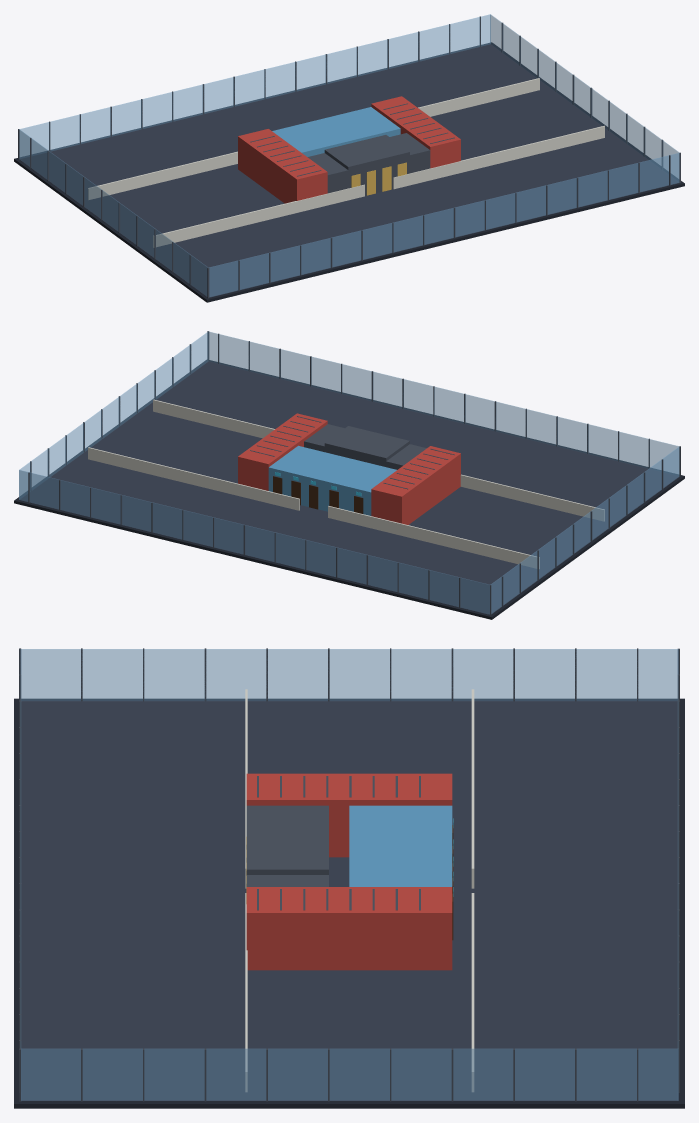
3 views of the same model, one above another, from view 1: azimuth 30°, elevation 25°; view 2: azimuth 150°, elevation 25°; view 3: azimuth 270°, elevation 25° (orthographic). The views are drawn at different scales.
Parts seen in each view (by area): view 1: L12_floor_carpet, L12_glass, L12_wall, L12_core, L12_stair, L12_slab, L12_wash, L12_lift; view 2: L12_floor_carpet, L12_glass, L12_wall, L12_stair, L12_core, L12_slab, L12_wash, L12_door_closed; view 3: L12_floor_carpet, L12_glass, L12_stair, L12_core, L12_slab, L12_wash, L12_wall.
Boxes of the visible parts, x1,y1,x2,y2 form: L12_floor_carpet: (19,44,679,297); L12_glass: (19,14,679,296); L12_wall: (88,78,604,247); L12_core: (18,16,680,298); L12_stair: (238,96,460,203); L12_slab: (14,42,684,302); L12_wash: (272,107,400,156); L12_lift: (351,162,406,195); L12_floor_carpet: (19,361,679,614); L12_glass: (19,331,679,614); L12_wall: (88,399,604,568); L12_stair: (238,413,460,524); L12_core: (28,331,680,615); L12_slab: (14,360,684,619); L12_wash: (268,445,396,515); L12_door_closed: (273,476,363,513); L12_floor_carpet: (21,700,678,1101); L12_glass: (20,649,678,1100); L12_stair: (246,773,452,970); L12_core: (19,648,679,1101); L12_slab: (14,698,684,1108); L12_wash: (349,805,452,886); L12_wall: (245,689,474,1092).
Bounding box in the file's own units: 46.6 × 3.37 × 32.6.
